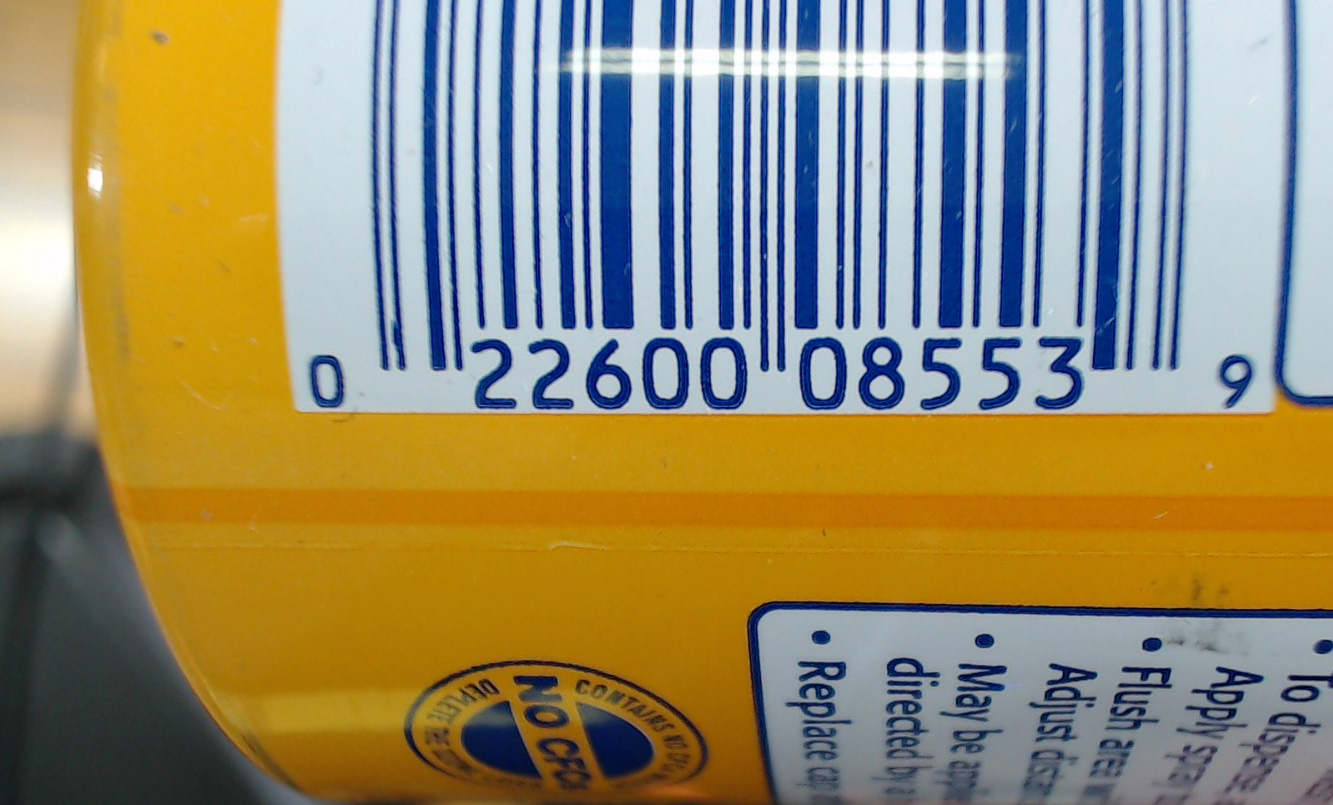Barcode: (369, 1, 1189, 377)
